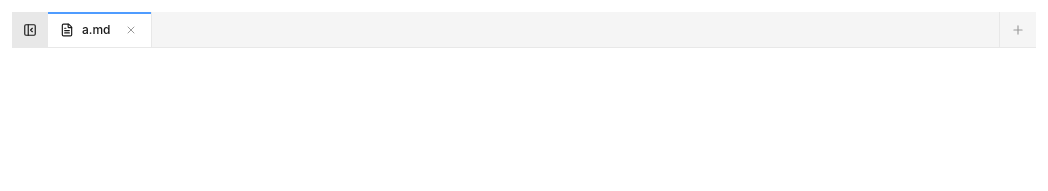
Test: TabsBar — context menu (AC#3) › closes the menu on window scroll (UI-8)
Right-click the button with class "tab".
right_click(100, 30)  # box [48, 12, 152, 48]
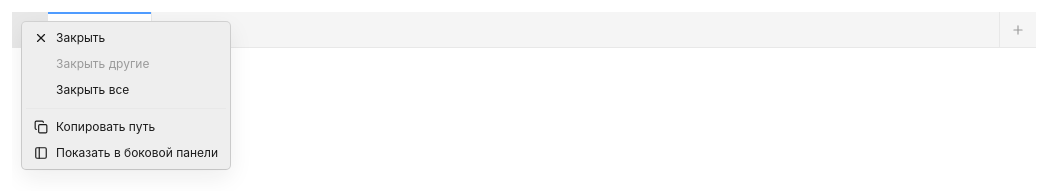
expect the menu with class "context-menu" is shown: met, box [22, 22, 230, 169]
